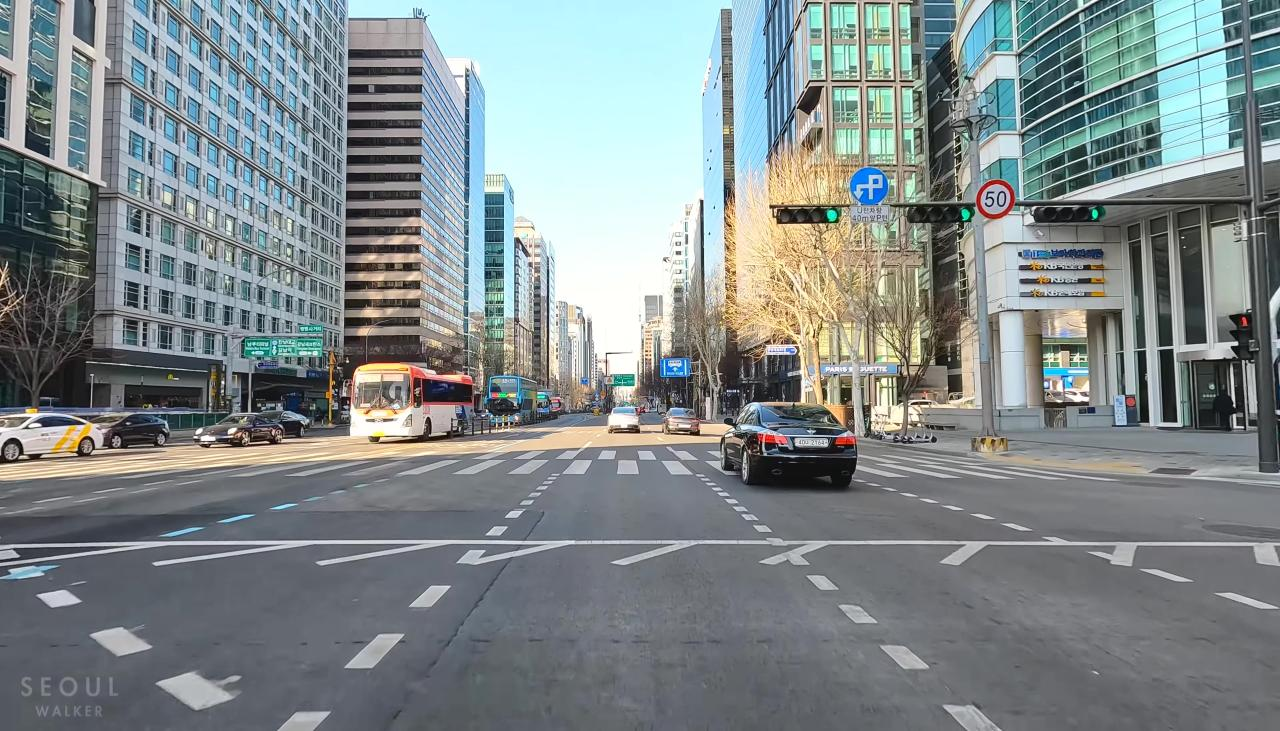Green Light: (1090, 206, 1102, 224), (960, 207, 974, 222), (825, 207, 838, 223)
